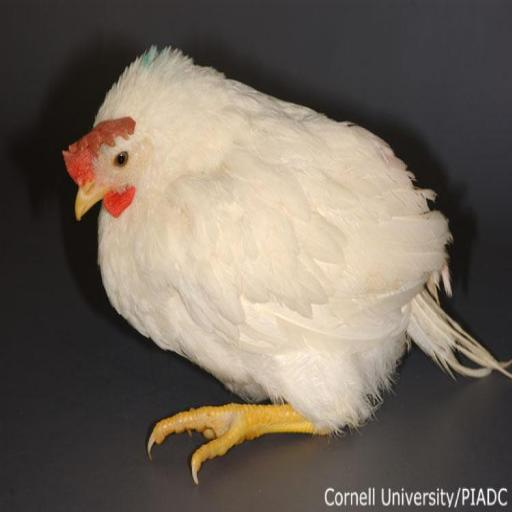healthy: (58, 124, 168, 222)
